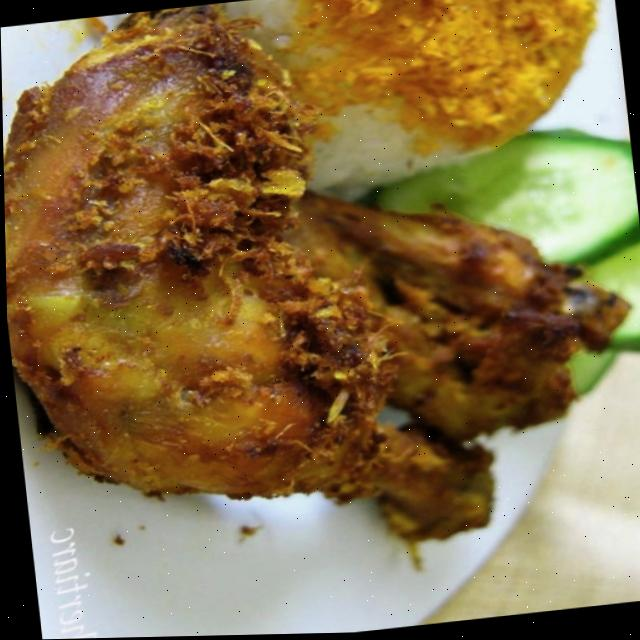鸡肉料理 含炸鸡: (0, 6, 640, 638)
